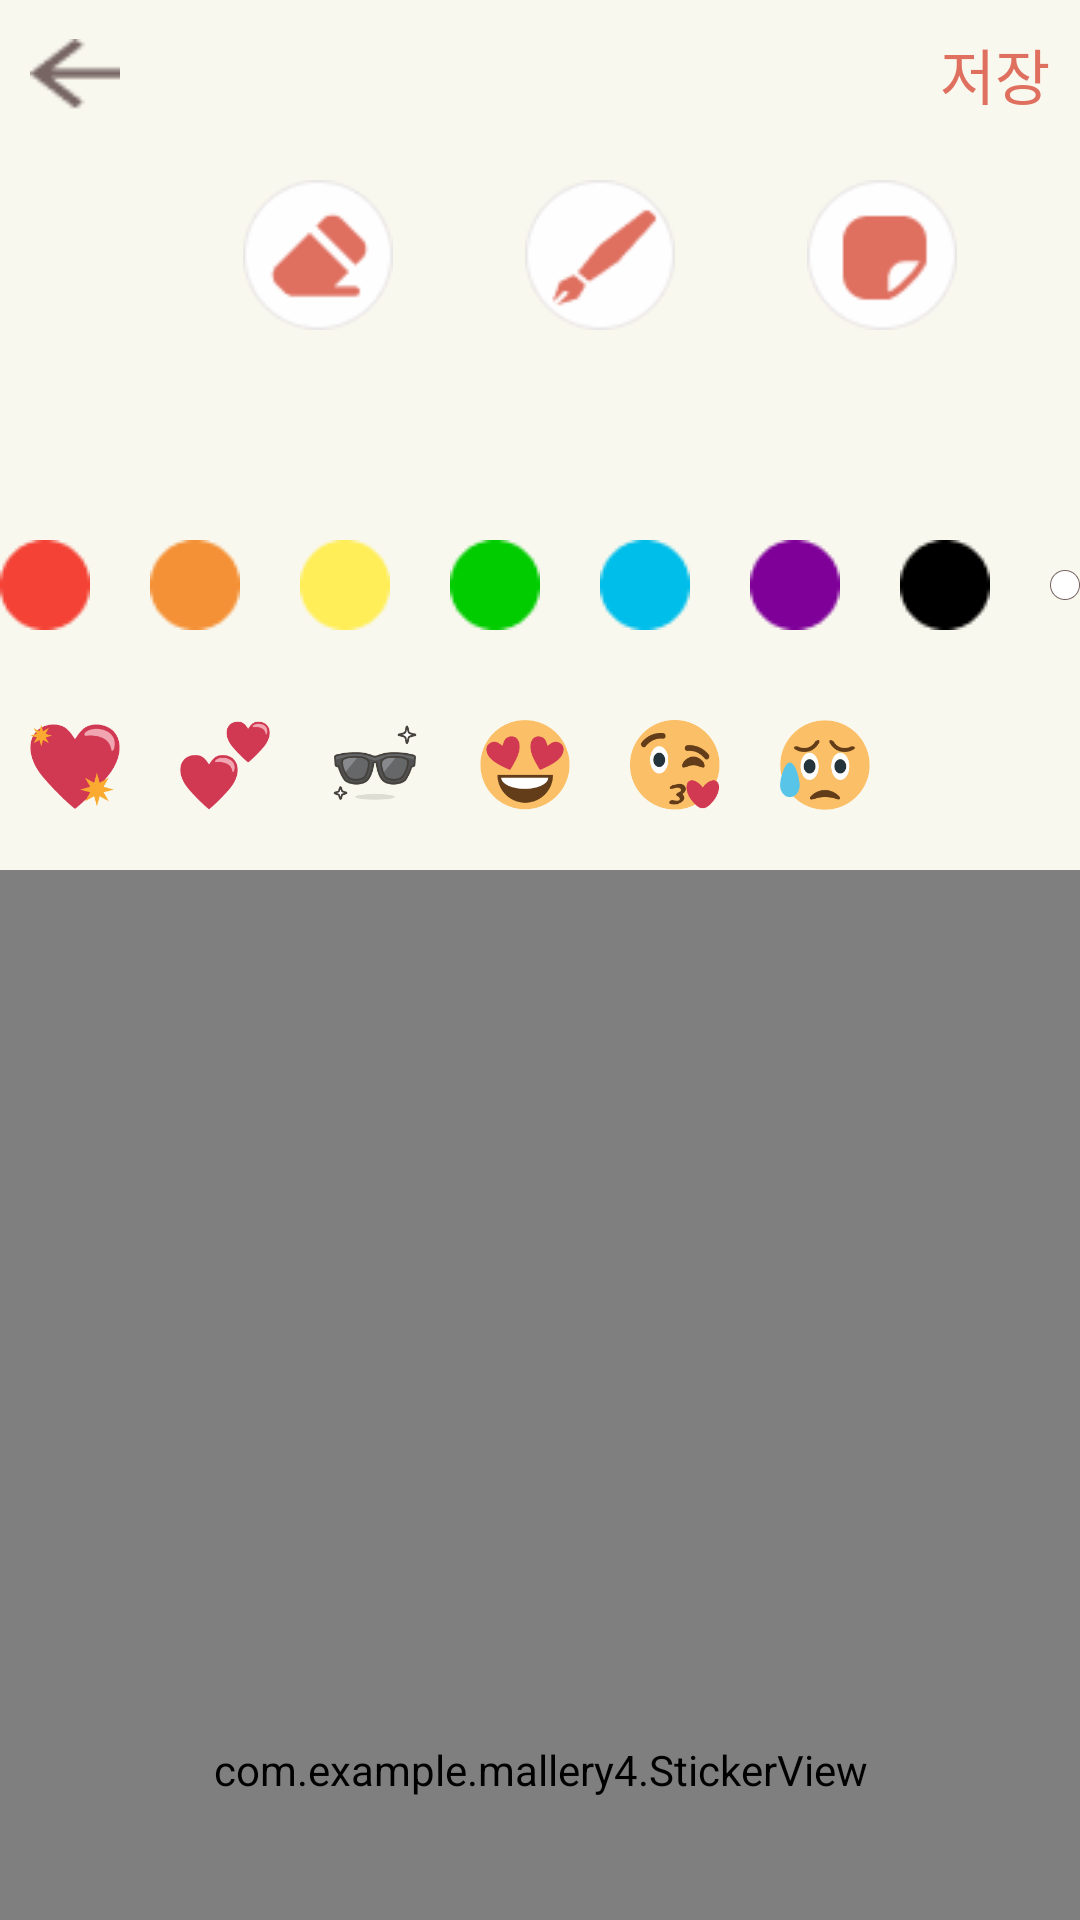

Locate icon controls on the screen. Image size 1080×1920, boxes as (x1, y1, x2, y2).
backarrow: (30, 39, 120, 109)
draw erase: (272, 214, 367, 297)
draw pen: (525, 180, 675, 330)
draw sticker: (842, 215, 927, 300)
sticker face: (480, 720, 570, 810), (630, 720, 720, 810), (780, 720, 870, 810)
sticker heart: (180, 721, 270, 809), (30, 724, 120, 809)
sticker sunglass: (333, 725, 417, 800)
